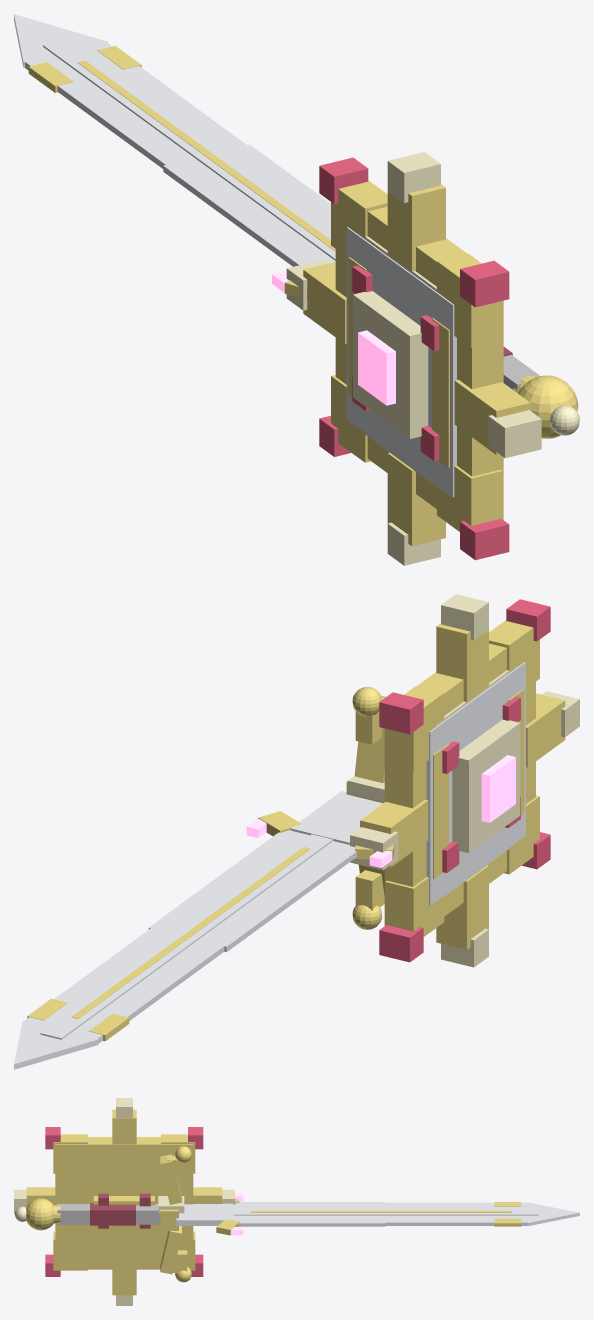
Rendered from art_aegis_of_valor.fbx.
The picture shows the model from 3 angles, top to bottom: view 1: azimuth 30°, elevation 25°; view 2: azimuth 150°, elevation 25°; view 3: azimuth 270°, elevation 25°; orthographic projection. The views are drawn at different scales.
Parts seen in each view (by area): view 1: InnerMirrorPlate, CentralAegisDisc, CoreSolarHum, FullerMain, EdgeBack1, EdgeBack2, CoronaE, EdgeFwd2, CoronaSE, CoronaW, CoronaSW, CoronaS (+22 smaller); view 2: InnerMirrorPlate, CentralAegisDisc, CoreSolarHum, FullerMain, EdgeBack1, EdgeBack2, EdgeFwd1, CoronaE, EdgeFwd2, CoronaNE, CoronaW, CoronaNW (+26 smaller); view 3: CentralAegisDisc, EdgeFwd1, FullerMain, EdgeFwd2, Ricasso, Handle, EdgeBack1, HandleS, EdgeBack2, FullerInlay, PommelBall, CoronaE (+15 smaller).
Part boxes in pixels (x1,y1,x2,y2): InnerMirrorPlate: (346, 227, 456, 497); CentralAegisDisc: (335, 206, 503, 519); CoreSolarHum: (353, 291, 428, 438); FullerMain: (43, 39, 335, 260); EdgeBack1: (163, 158, 335, 266); EdgeBack2: (24, 54, 199, 168); CoronaE: (387, 184, 445, 271); EdgeFwd2: (78, 41, 247, 155); CoronaSE: (437, 253, 502, 347); CoronaW: (387, 452, 445, 546); CoronaSW: (437, 465, 502, 531); CoronaS: (454, 379, 530, 454); InnerMirrorPlate: (426, 662, 525, 905); CentralAegisDisc: (384, 643, 535, 925); CoreSolarHum: (452, 719, 520, 853); FullerMain: (40, 834, 333, 1039); EdgeBack1: (204, 841, 356, 952); EdgeBack2: (71, 936, 228, 1043); EdgeFwd1: (148, 830, 309, 933); CoronaE: (436, 623, 488, 701); EdgeFwd2: (23, 928, 174, 1027); CoronaNE: (385, 686, 444, 770); CoronaW: (436, 865, 488, 949); CoronaNW: (385, 877, 444, 936); CentralAegisDisc: (55, 1137, 193, 1269); EdgeFwd1: (233, 1215, 385, 1226); FullerMain: (233, 1209, 538, 1215); EdgeFwd2: (379, 1215, 528, 1225); Ricasso: (176, 1203, 233, 1225); Handle: (57, 1204, 160, 1224); EdgeBack1: (233, 1202, 385, 1208); HandleS: (90, 1203, 135, 1225); EdgeBack2: (379, 1202, 528, 1208); FullerInlay: (251, 1210, 511, 1212); PommelBall: (26, 1198, 53, 1230); CoronaE: (112, 1109, 136, 1144).
Size of the model in its own units: 1.27 by 2.86 by 7.38.
